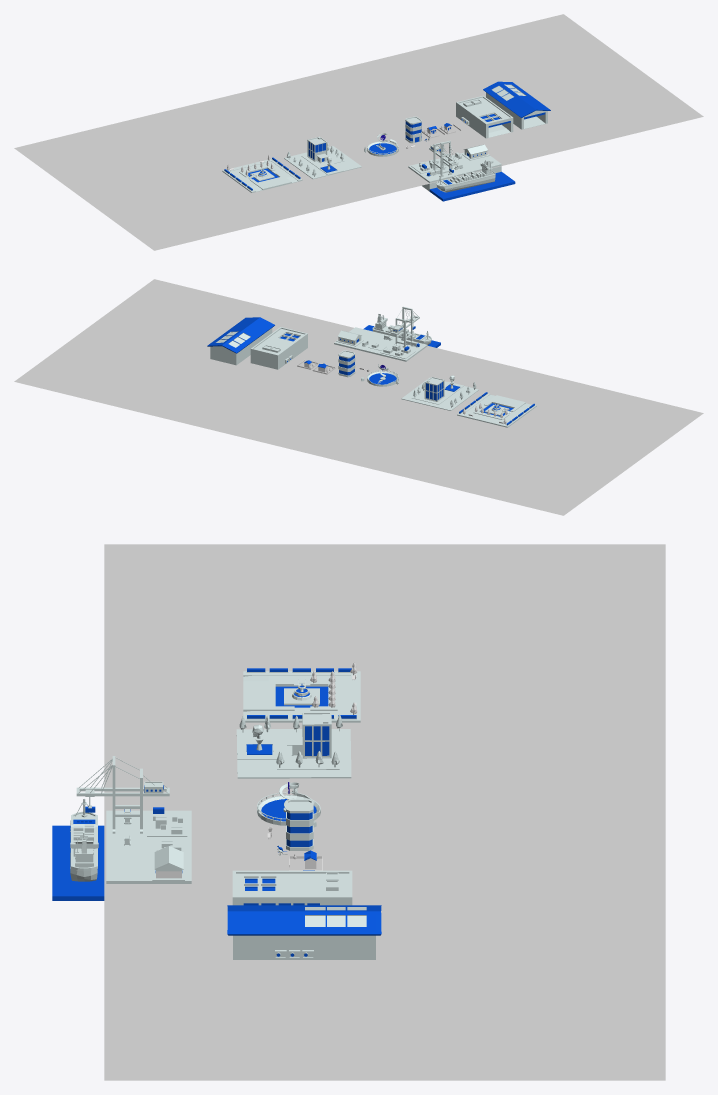
File: BlueSky.glb
3 renders of one model, top to bottom at view 1: azimuth 30°, elevation 25°; view 2: azimuth 150°, elevation 25°; view 3: azimuth 270°, elevation 25°, orthographic. The views are drawn at different scales.
Visible parts, largest first — view 1: Plane.007, group980636007.002, Plane.003, Plane.002, Plane.005, Plane.006, Circle.002, Plane.004; view 2: Plane.007, group980636007.002, Plane.003, Plane.005, Plane.006, Plane.002, Circle.002, Plane.004; view 3: Plane.007, group980636007.002, Plane.003, Plane.002, Plane.006, Plane.005, Plane.004, Circle.002.
Part boxes in pixels (left/top/right/bottom): Plane.007: left=14, top=14, right=703, bottom=250; group980636007.002: left=408, top=140, right=515, bottom=201; Plane.003: left=483, top=81, right=550, bottom=129; Plane.002: left=284, top=136, right=361, bottom=179; Plane.005: left=456, top=95, right=513, bottom=138; Plane.006: left=222, top=155, right=302, bottom=192; Circle.002: left=364, top=133, right=398, bottom=156; Plane.004: left=405, top=116, right=421, bottom=143; Plane.007: left=14, top=279, right=703, bottom=515; group980636007.002: left=334, top=306, right=440, bottom=361; Plane.003: left=207, top=317, right=274, bottom=365; Plane.005: left=250, top=327, right=307, bottom=369; Plane.006: left=457, top=392, right=536, bottom=427; Plane.002: left=401, top=375, right=478, bottom=410; Circle.002: left=361, top=364, right=398, bottom=386; Plane.004: left=338, top=350, right=355, bottom=377; Plane.007: left=104, top=544, right=665, bottom=1080; group980636007.002: left=52, top=756, right=191, bottom=900; Plane.003: left=227, top=905, right=381, bottom=959; Plane.002: left=236, top=712, right=351, bottom=778; Plane.006: left=243, top=662, right=360, bottom=722; Plane.005: left=232, top=870, right=352, bottom=905; Plane.004: left=286, top=799, right=313, bottom=850; Circle.002: left=257, top=782, right=320, bottom=827.
Size of the model in its own units: 133 by 10.12 by 64.16.
5 materials, 1 textured.
